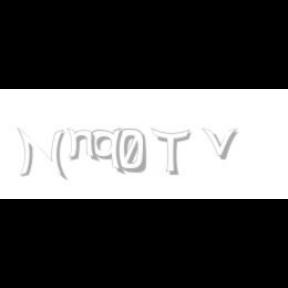0: (119, 128, 150, 174)
N: (16, 128, 66, 180)
T: (151, 128, 191, 176)
n: (66, 128, 100, 162)
q: (91, 128, 127, 176)
v: (202, 128, 242, 160)
